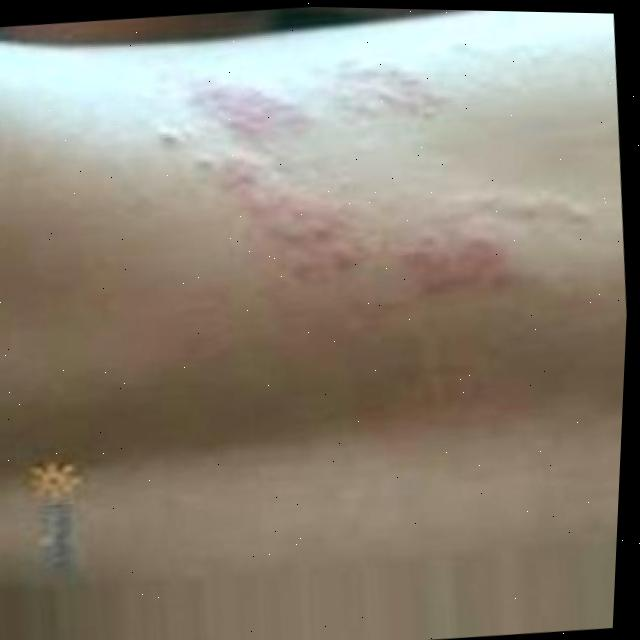Shingles: (122, 35, 568, 327)
